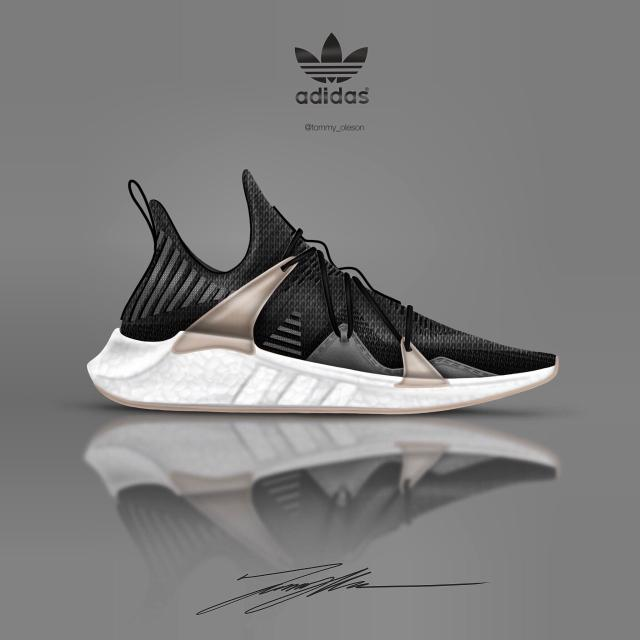shoe: (67, 162, 582, 430)
